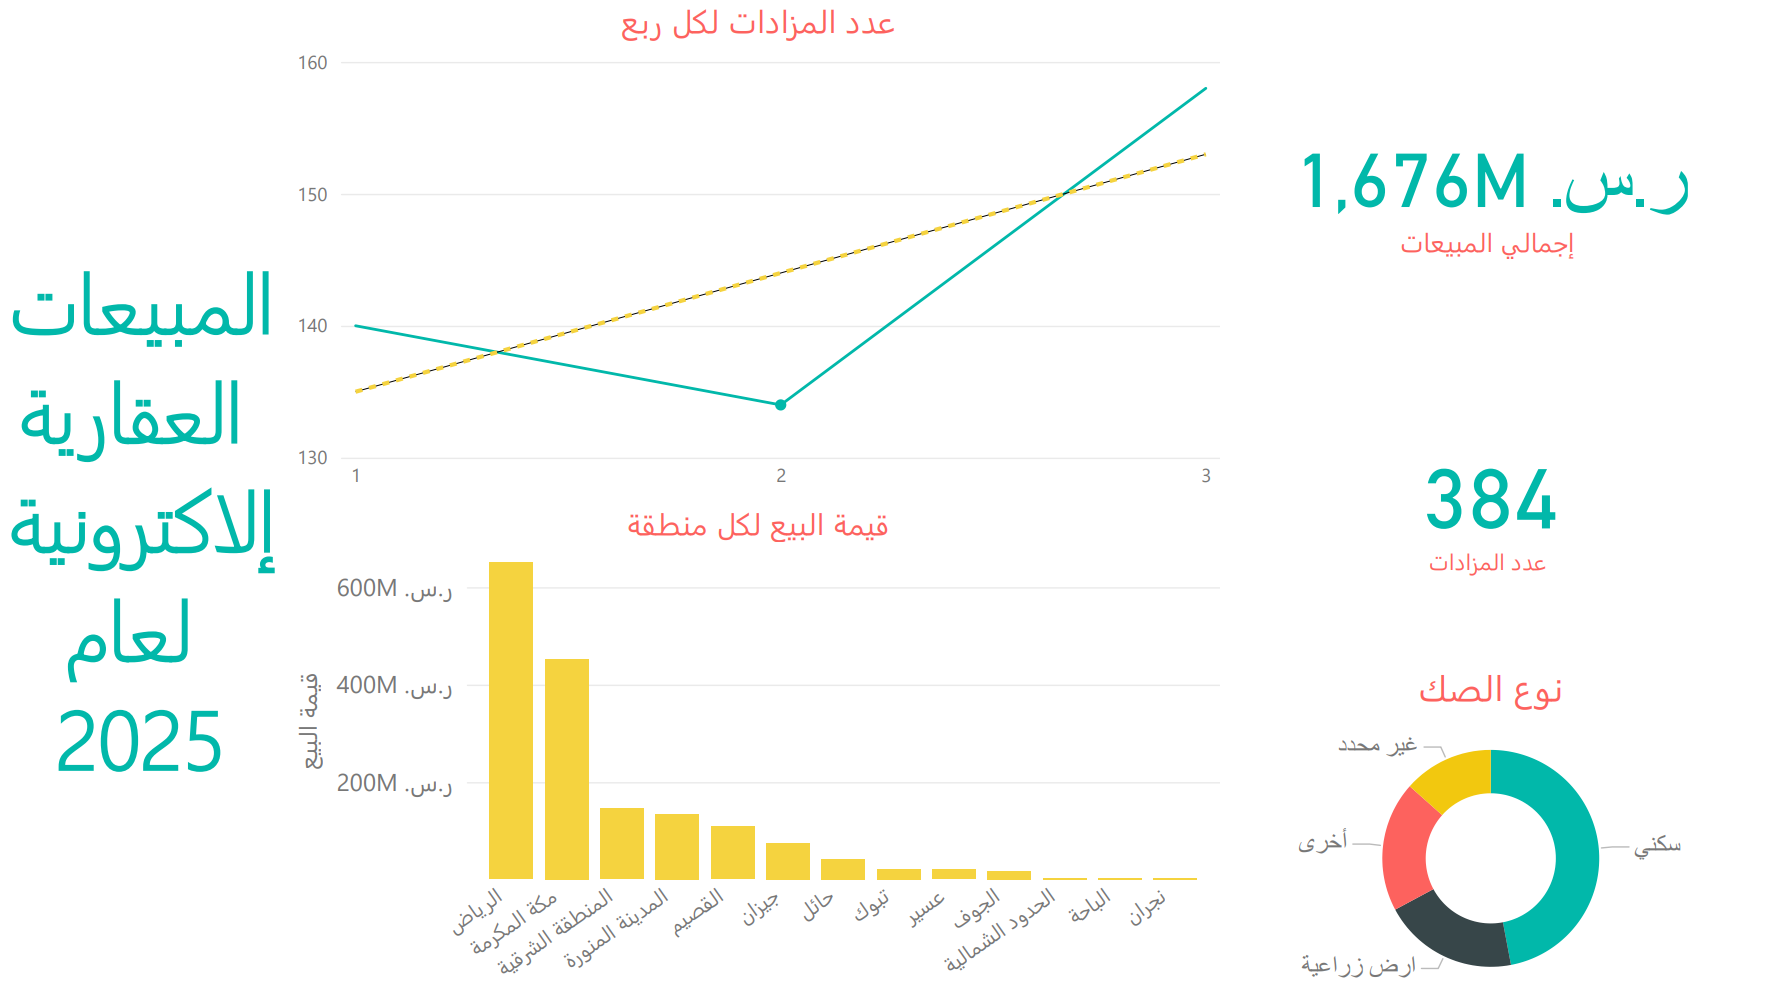

The page's visual inventory and layout, read from the dashboard file:
{"tool":"powerbi","page":{"name":"Page 1","canvas":[1280,720],"ordinal":0},"visuals":[{"type":"card","fields":{"Values":["Sum(AuctionAggQuarter_Electronic Qu.مجموع_قيمة_البيع)"]},"box":[862.5,0,417.5,270],"z":0},{"type":"card","fields":{"Values":["Sum(AuctionAggQuarter_Electronic Qu.عدد_المزادات)"]},"box":[862.5,245,417.5,230],"z":1000},{"type":"donutChart","title":"نوع الصك ","fields":{"Category":["AuctionAggQuarter_Electronic Qu.نوع_الصك"],"Y":["CountNonNull(AuctionAggQuarter_Electronic Qu.نوع_الصك)"]},"box":[862.5,475,417.5,245],"z":2000},{"type":"lineChart","title":"عدد المزادات لكل ربع ","fields":{"Y":["CountNonNull(AuctionAggQuarter_Electronic Qu.عدد_المزادات)"],"Category":["AuctionAggQuarter_Electronic Qu.الربع"]},"box":[212.5,0,670,360],"z":3000},{"type":"columnChart","title":"قيمة البيع لكل منطقة ","fields":{"Category":["AuctionAggQuarter_Electronic Qu.المنطقة"],"Y":["Sum(AuctionAggQuarter_Electronic Qu.مجموع_قيمة_البيع)"]},"box":[212.5,360,670,360],"z":4001},{"type":"textbox","box":[0,0,212.5,720],"z":4002}]}

Visuals, with their boxes in screenshot pixels (x1, y1, x2, y2), scaled from the page's 1280x720 canvas onto the 1780x1007 screenshot:
card - Sum(AuctionAggQuarter_Electronic Qu.مجموع_قيمة_البيع): select_region(1199, 0, 1779, 378)
card - Sum(AuctionAggQuarter_Electronic Qu.عدد_المزادات): select_region(1199, 343, 1779, 664)
"نوع الصك " donutChart: select_region(1199, 664, 1779, 1006)
"عدد المزادات لكل ربع " lineChart: select_region(296, 0, 1227, 503)
"قيمة البيع لكل منطقة " columnChart: select_region(296, 503, 1227, 1006)
textbox: select_region(0, 0, 296, 1006)
